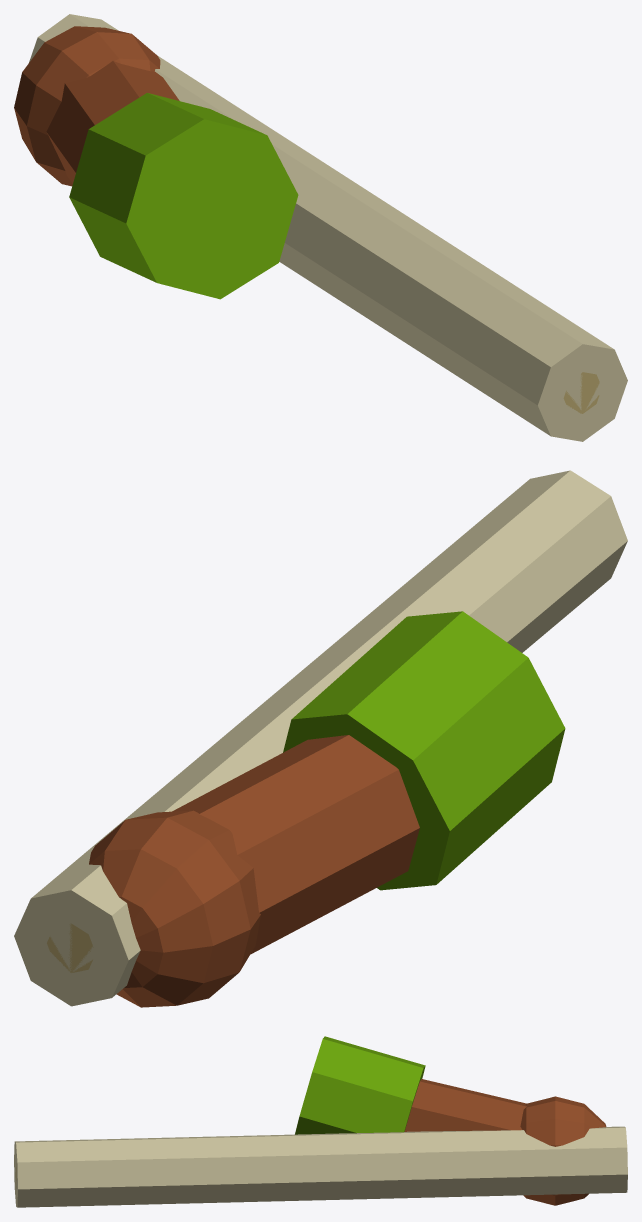
File: Resident8RightArm.obj
The picture shows the model from 3 angles, top to bottom: view 1: azimuth 30°, elevation 25°; view 2: azimuth 150°, elevation 25°; view 3: azimuth 270°, elevation 25°; orthographic projection. The views are drawn at different scales.
Visible parts, largest first — view 1: Resident8RightArm; view 2: Resident8RightArm; view 3: Resident8RightArm.
Part boxes in pixels (bbox=[...]): Resident8RightArm: bbox=[14, 14, 627, 441]; Resident8RightArm: bbox=[14, 470, 627, 1007]; Resident8RightArm: bbox=[14, 1036, 627, 1207].
Bounding box in the file's own units: 40.86 × 30.65 × 122.
